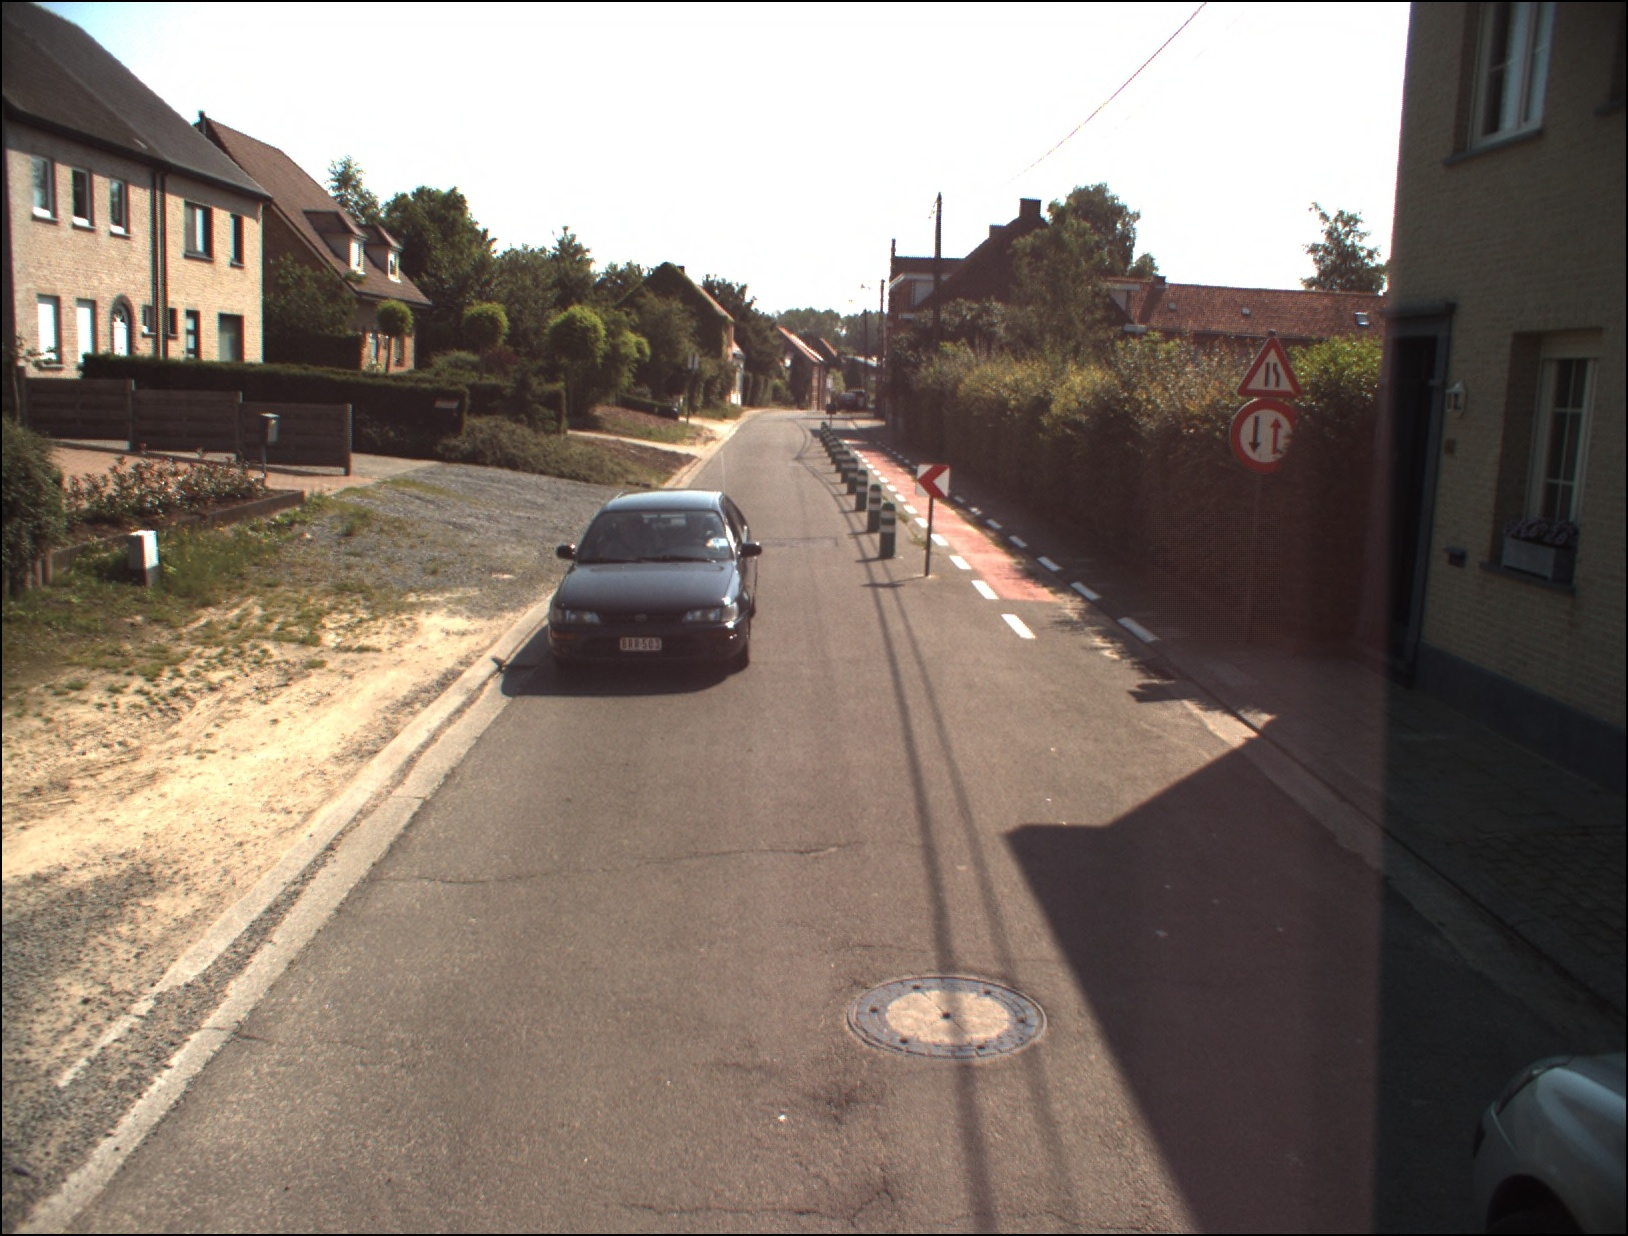roadnarrow2: (1231, 401, 1300, 471)
